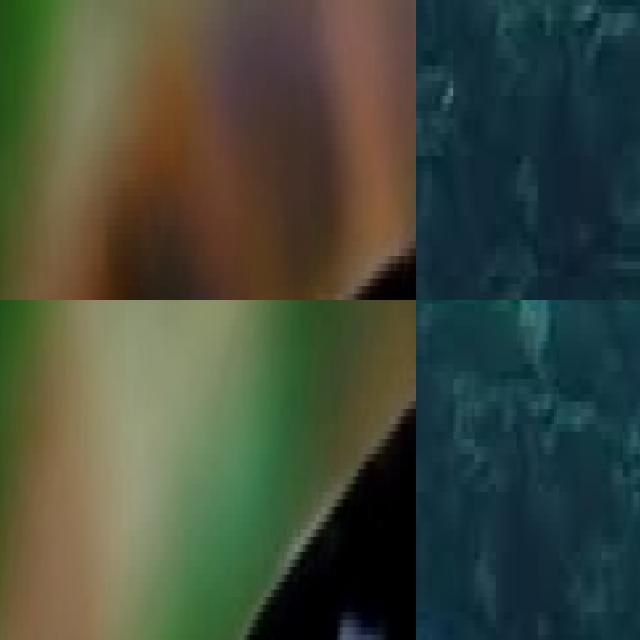fish: (0, 300, 416, 640), (0, 0, 416, 300)
